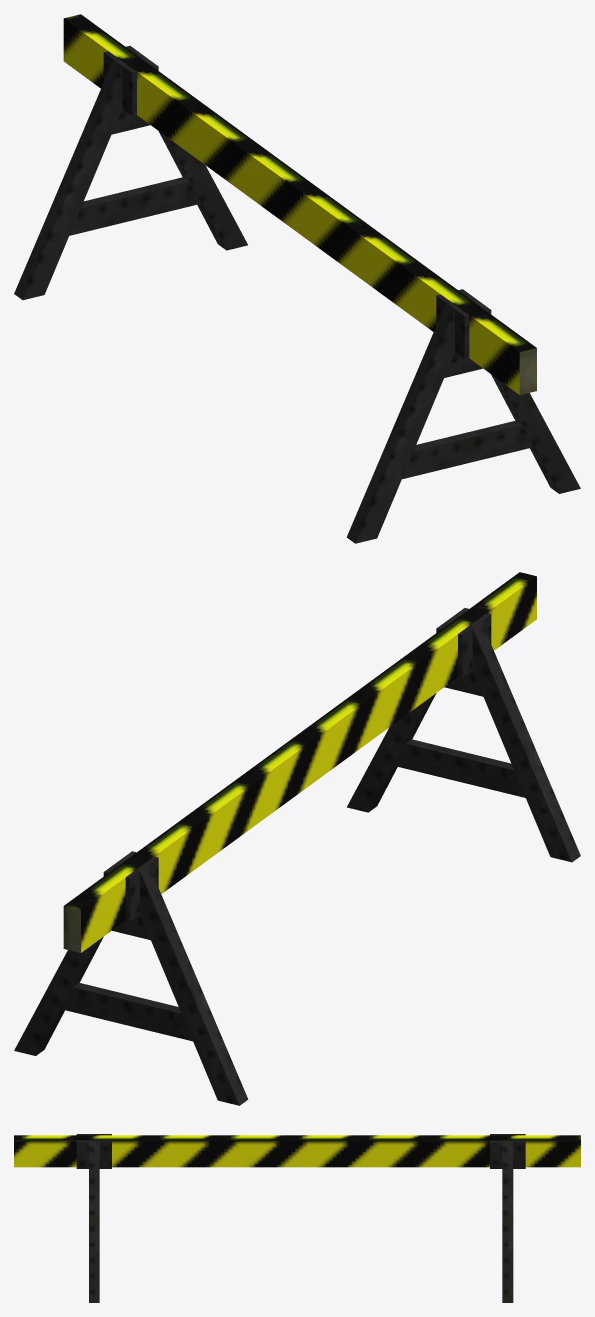
File: road_block_2.fbx
The picture shows the model from 3 angles, top to bottom: view 1: azimuth 30°, elevation 25°; view 2: azimuth 150°, elevation 25°; view 3: azimuth 270°, elevation 25°; orthographic projection. The views are drawn at different scales.
Visible parts, largest first — view 1: kw_barriers_stand_white__1_1; view 2: kw_barriers_stand_white__1_1; view 3: kw_barriers_stand_white__1_1.
Part boxes in pixels (x1=…): kw_barriers_stand_white__1_1: x1=14, y1=14, x2=580, y2=543; kw_barriers_stand_white__1_1: x1=14, y1=572, x2=580, y2=1105; kw_barriers_stand_white__1_1: x1=14, y1=1134, x2=580, y2=1302.
Size of the model in its own units: 63.15 by 56.23 by 221.
